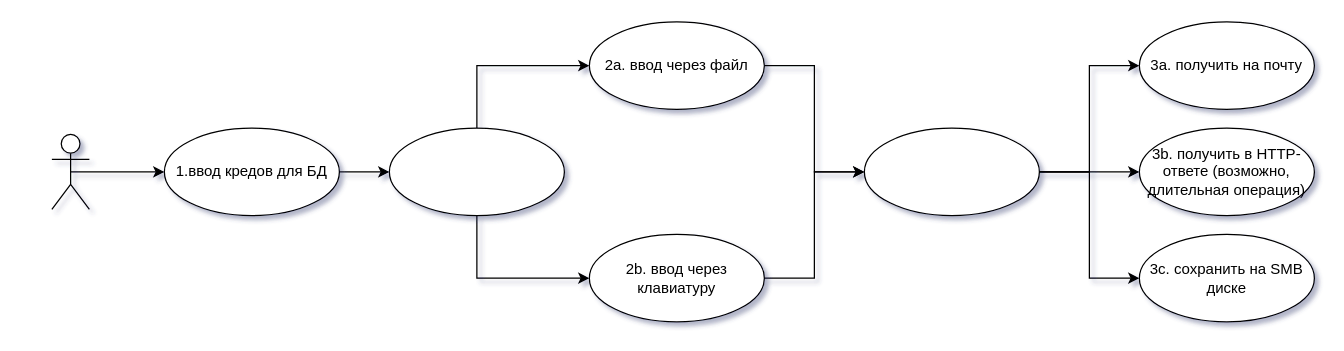
This 1344x351 diagram has some shape labels left out. Each missing label, with the centre of its shape:
"ввод запросов SQL, которые необходимо оптимизировать" belongs at point 476,171.
"выбор места сохранения отчёта" belongs at point 951,171.
"Пользователь" belongs at point 70,171.
